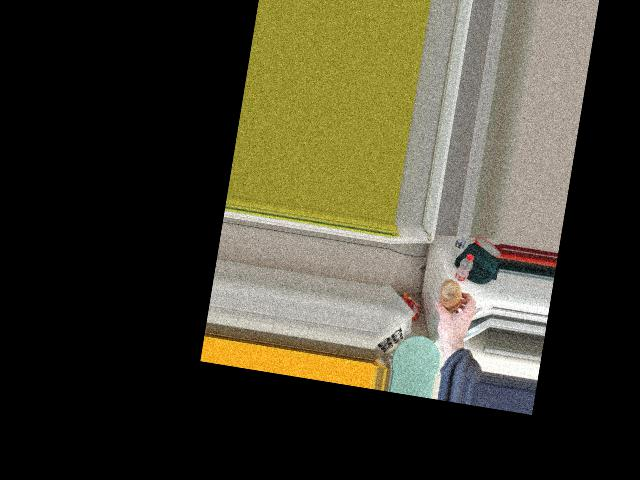sweet_potato: (432, 275, 466, 317)
